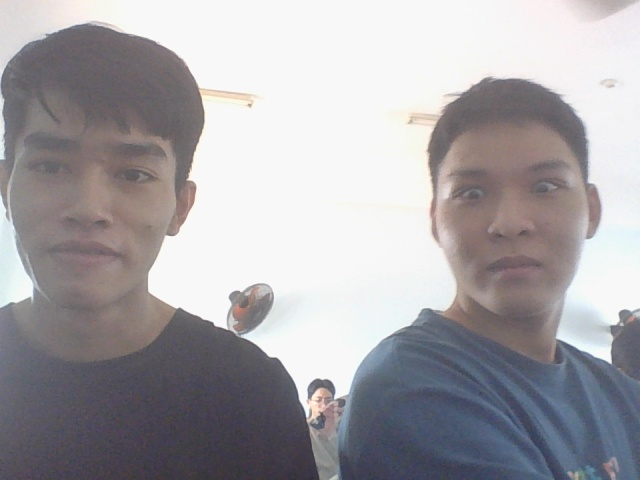real: (0, 3, 232, 332), (419, 62, 609, 332)
